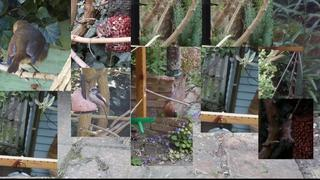long tailed tit: (88, 88, 110, 129)
mouse: (88, 20, 111, 59), (280, 119, 293, 143)
robin: (6, 20, 51, 79)
